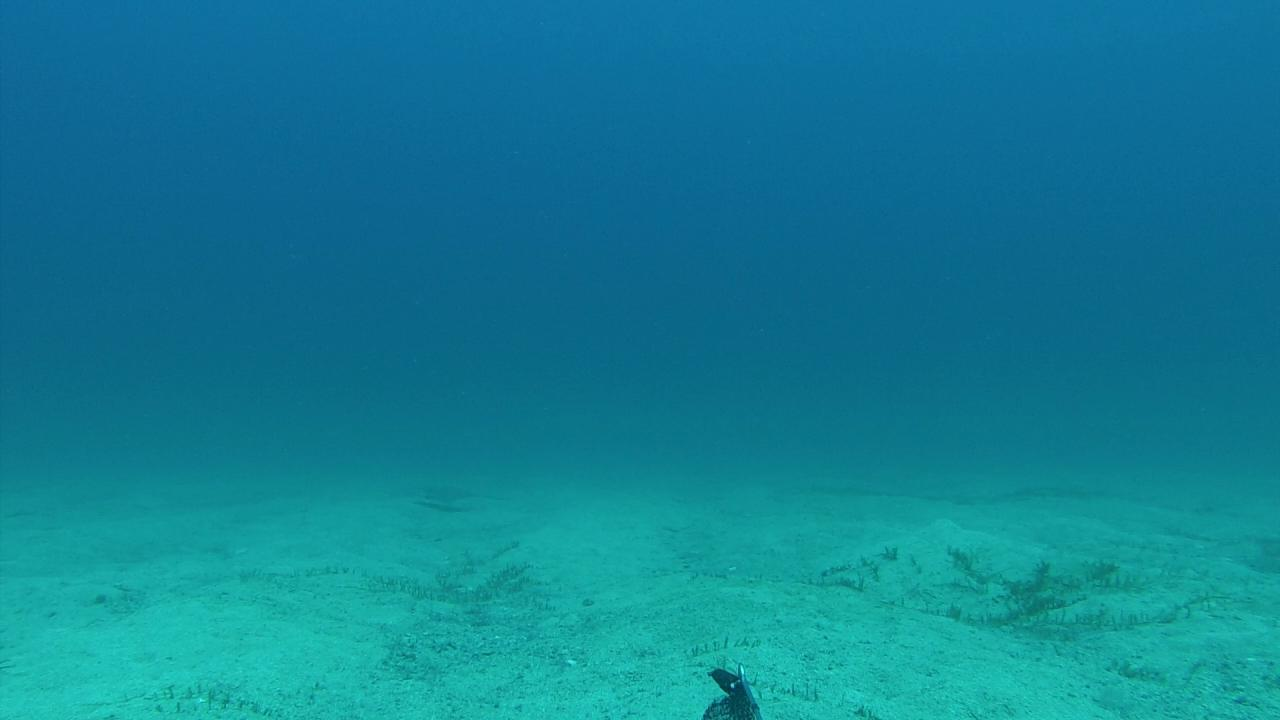dasyatis: (414, 482, 504, 506)
